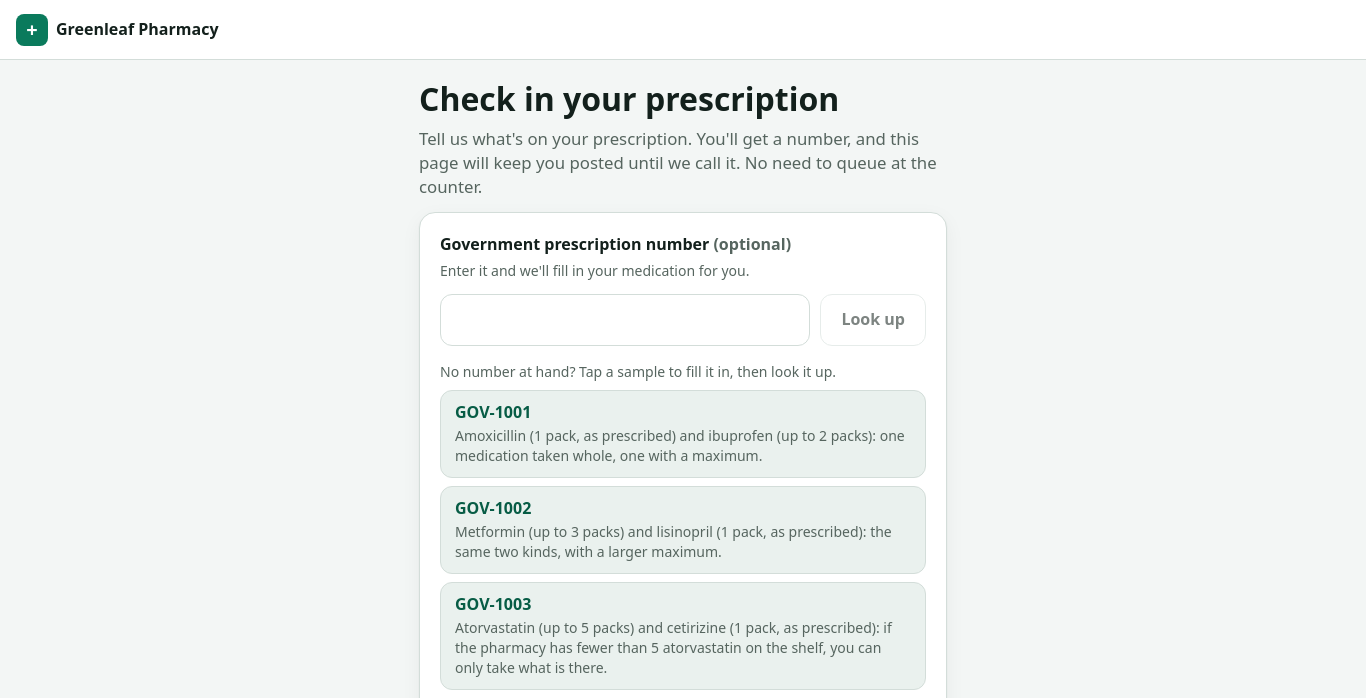
Scenario: check-in with a government prescription › fills in the medication of the prescription, chosen up to what can be taken
This screenshot has width=1366, height=698.
In the field labelled "Government prescription number (optional)": (625, 320) [440, 294, 810, 346], type "GOV-1001"
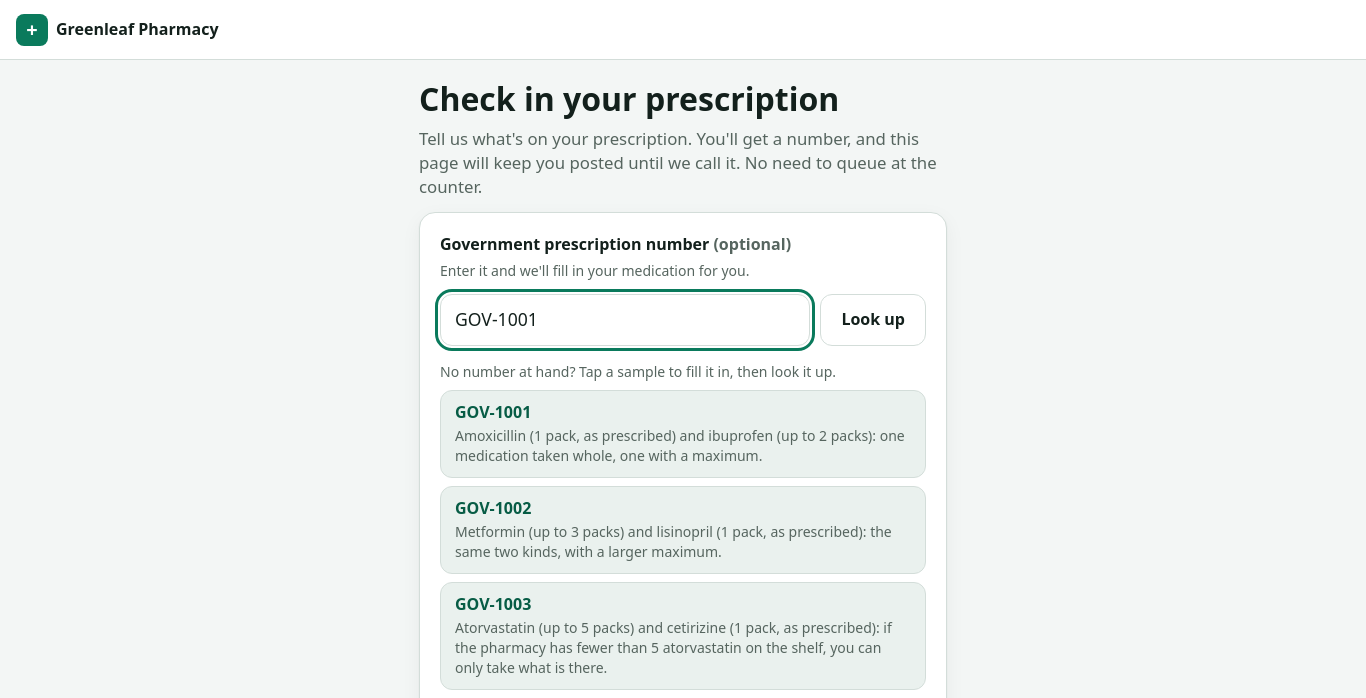
Click the button "Look up": (873, 320) [820, 294, 926, 346]
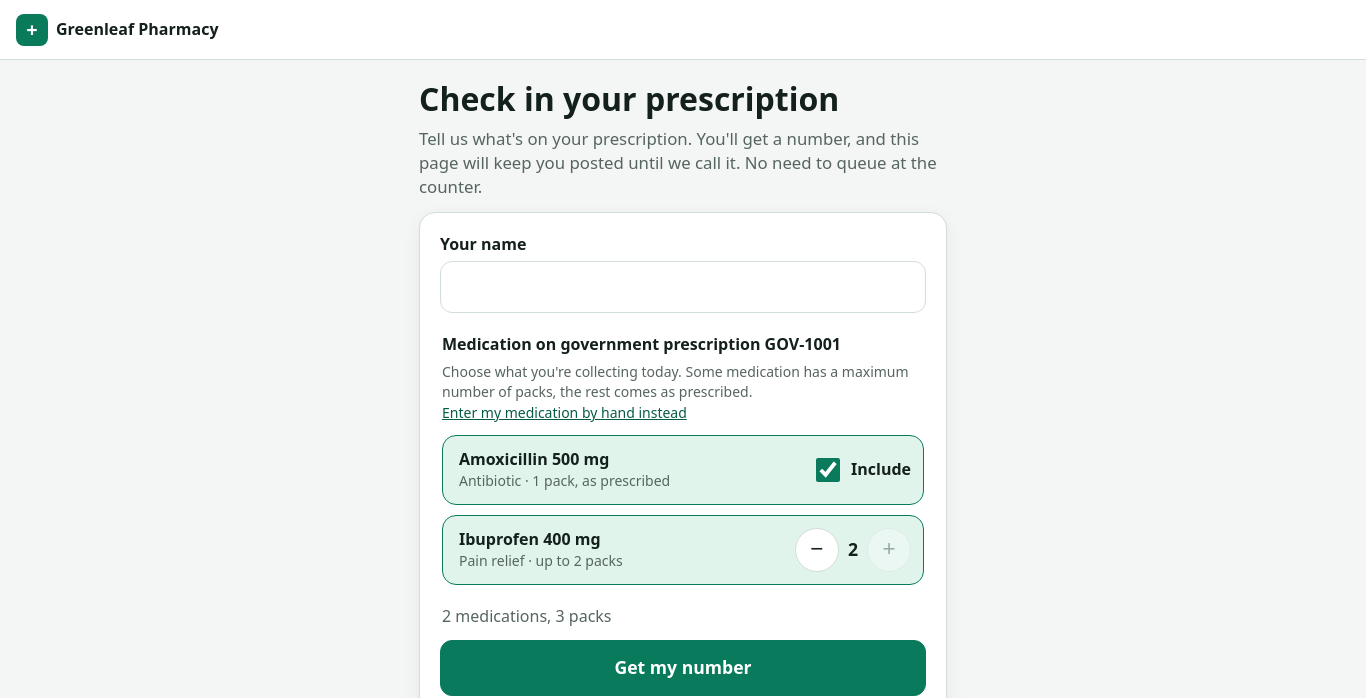
expect the text "Medication on government prescription GOV-1001" is shown: met, box [442, 333, 841, 357]
expect the text "Pain relief · up to 2 packs" is shown: met, box [459, 551, 623, 570]
expect the text "Antibiotic · 1 pack, as prescribed" is shown: met, box [459, 471, 670, 490]
